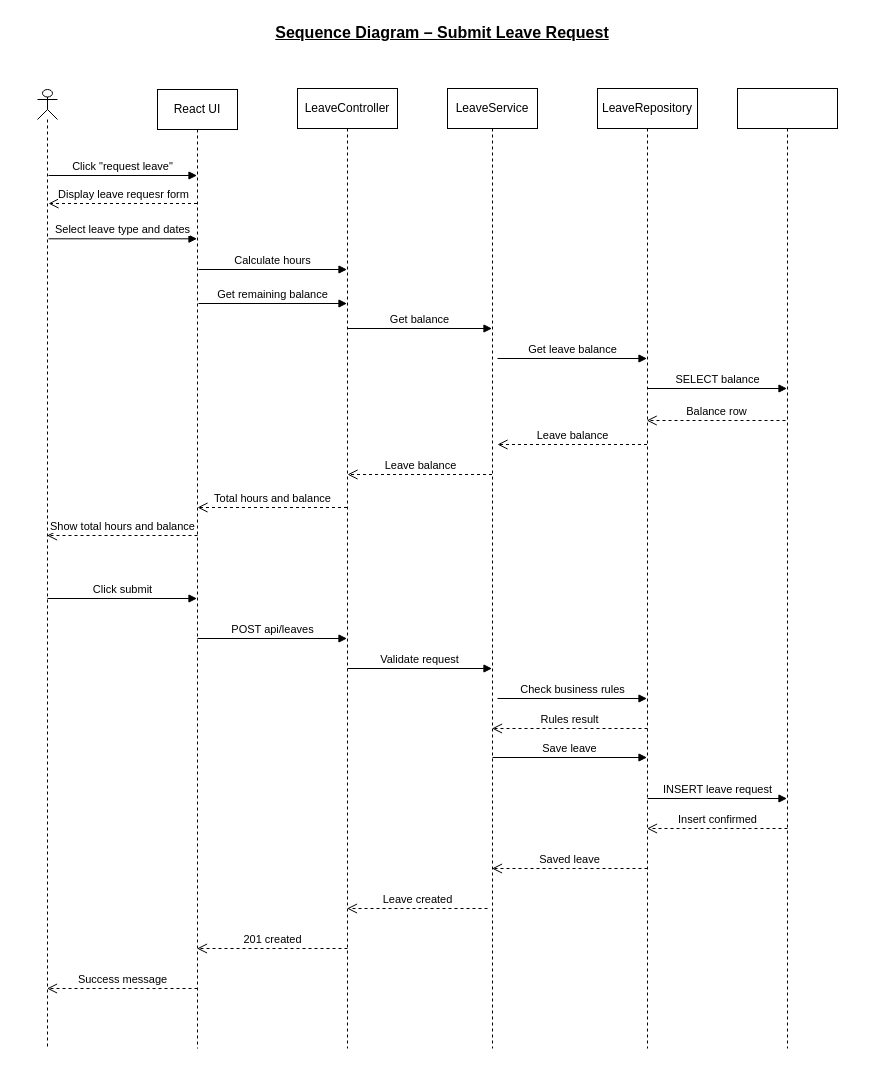
The diagram is 884 pixels wide and 1066 high, and some of its shapes have lost their labels. Here are the shapes that lost their labels. From the top down, the box of each, then its label:
(36, 88, 58, 1048): Employee
(736, 88, 838, 1048): Database
